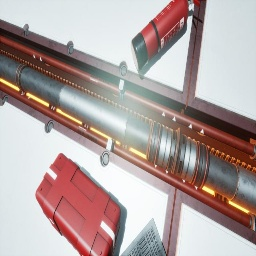FireExtinguisher ]: (131, 0, 207, 71)
FirstAidBox ,: (35, 153, 121, 256)
